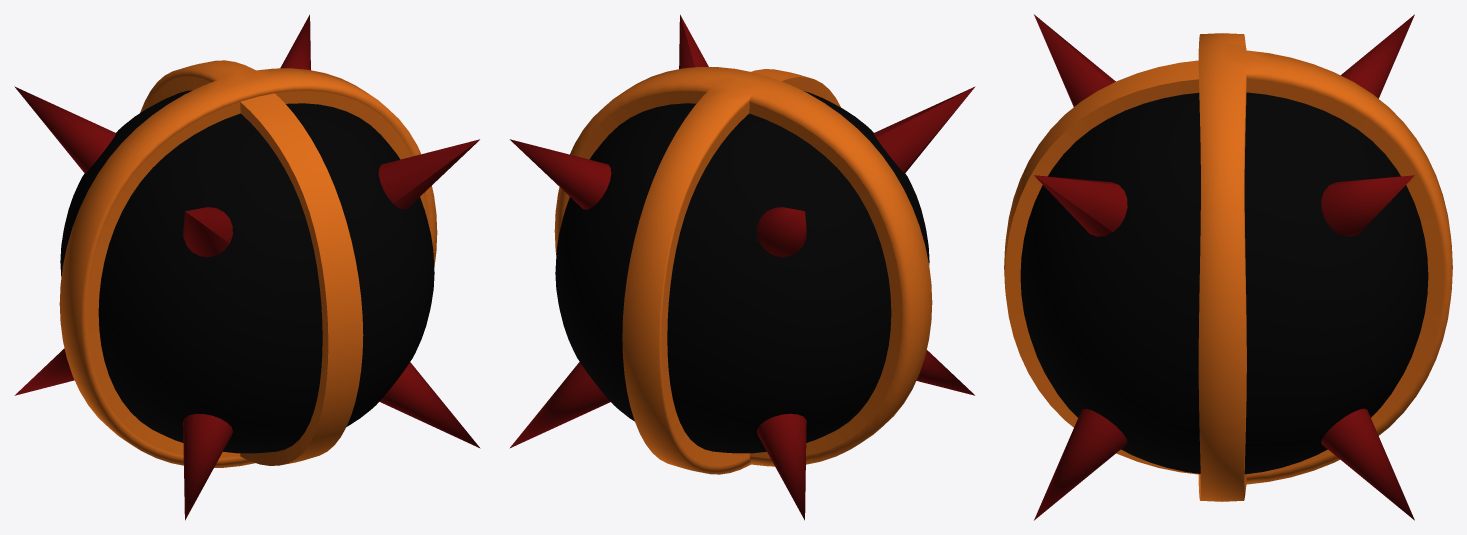
The model's file is ball size.fbx.
The picture shows the model from 3 angles, left to right: view 1: azimuth 30°, elevation 25°; view 2: azimuth 150°, elevation 25°; view 3: azimuth 270°, elevation 25°; orthographic projection. The views are drawn at different scales.
Visible parts, largest first — view 1: pCube1; view 2: pCube1; view 3: pCube1.
Part boxes in pixels (x1=…): pCube1: x1=14, y1=14, x2=480, y2=520; pCube1: x1=509, y1=14, x2=975, y2=520; pCube1: x1=1004, y1=14, x2=1452, y2=520.
Bounding box in the file's own units: 23.71 × 23.71 × 23.07.
